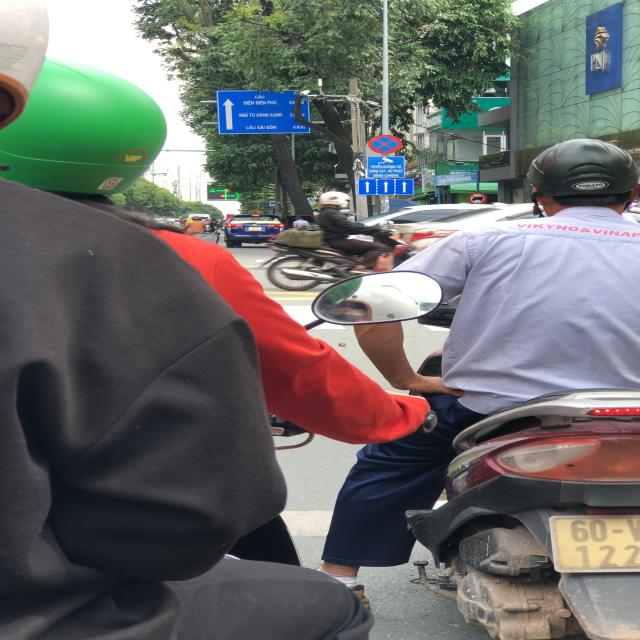Bien bao cam dung xe va do xe: (364, 133, 406, 155)
